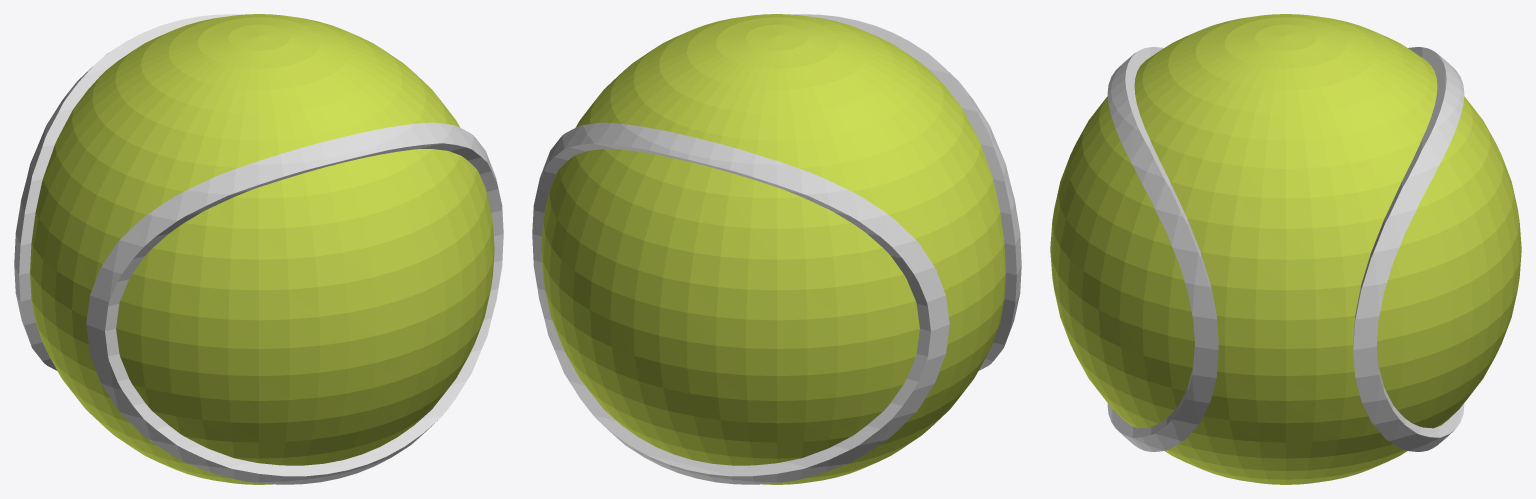
File: cargo-rapidreact.glb
3 views of the same model, side by side, from view 1: azimuth 30°, elevation 25°; view 2: azimuth 150°, elevation 25°; view 3: azimuth 270°, elevation 25° (orthographic).
Visible parts, largest first — view 1: Mesh_Mesh_head_geo.001_lambert2SG.001; view 2: Mesh_Mesh_head_geo.001_lambert2SG.001; view 3: Mesh_Mesh_head_geo.001_lambert2SG.001.
Part boxes in pixels (<box>): Mesh_Mesh_head_geo.001_lambert2SG.001: <box>14,14,503,484</box>; Mesh_Mesh_head_geo.001_lambert2SG.001: <box>532,14,1021,484</box>; Mesh_Mesh_head_geo.001_lambert2SG.001: <box>1050,14,1521,484</box>.
Bounding box in the file's own units: 0.0101 × 0.01 × 0.01.
